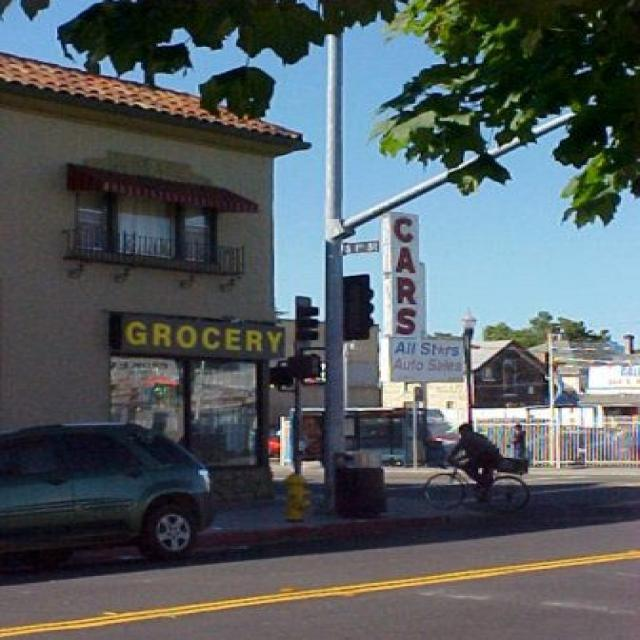fire_hydrant: (282, 468, 312, 522)
